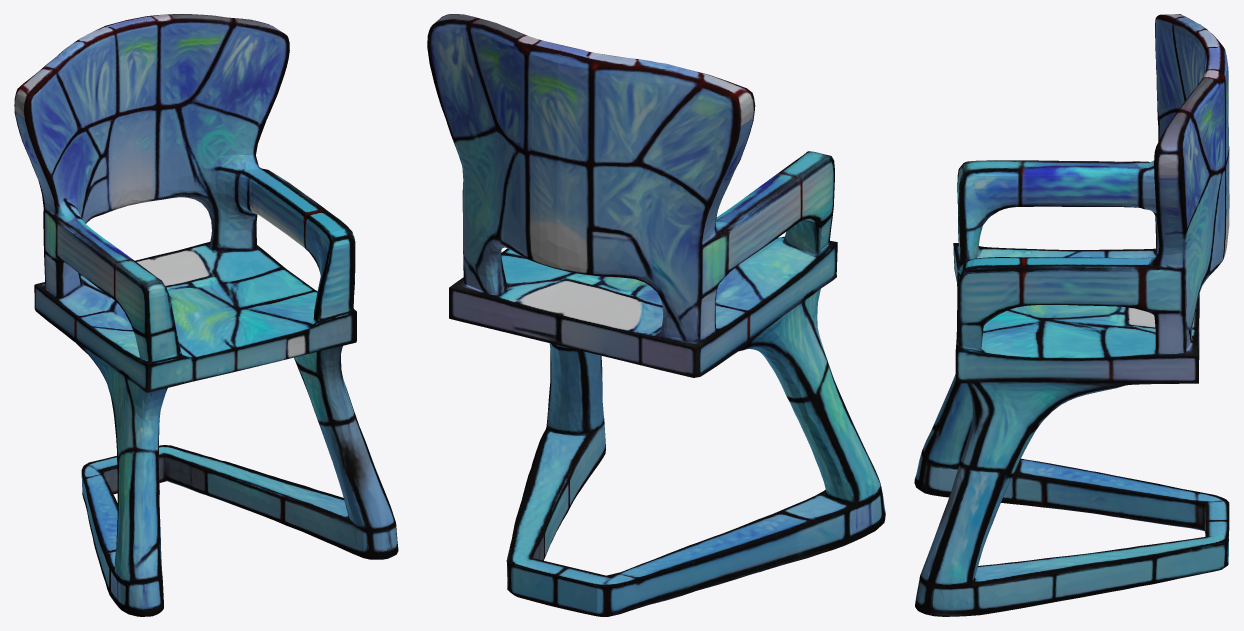
Rendered from after.glb.
The picture shows the model from 3 angles, left to right: view 1: azimuth 30°, elevation 25°; view 2: azimuth 150°, elevation 25°; view 3: azimuth 270°, elevation 25°; orthographic projection. The views are drawn at different scales.
Parts seen in each view (by area): view 1: world; view 2: world; view 3: world.
Part boxes in pixels (box(x1,y1,x2,y2)): world: box(14, 14, 398, 616); world: box(427, 14, 885, 616); world: box(914, 14, 1229, 616).
Bounding box in the file's own units: 0.6011 × 0.9931 × 0.5734.
1 material, 1 textured.
